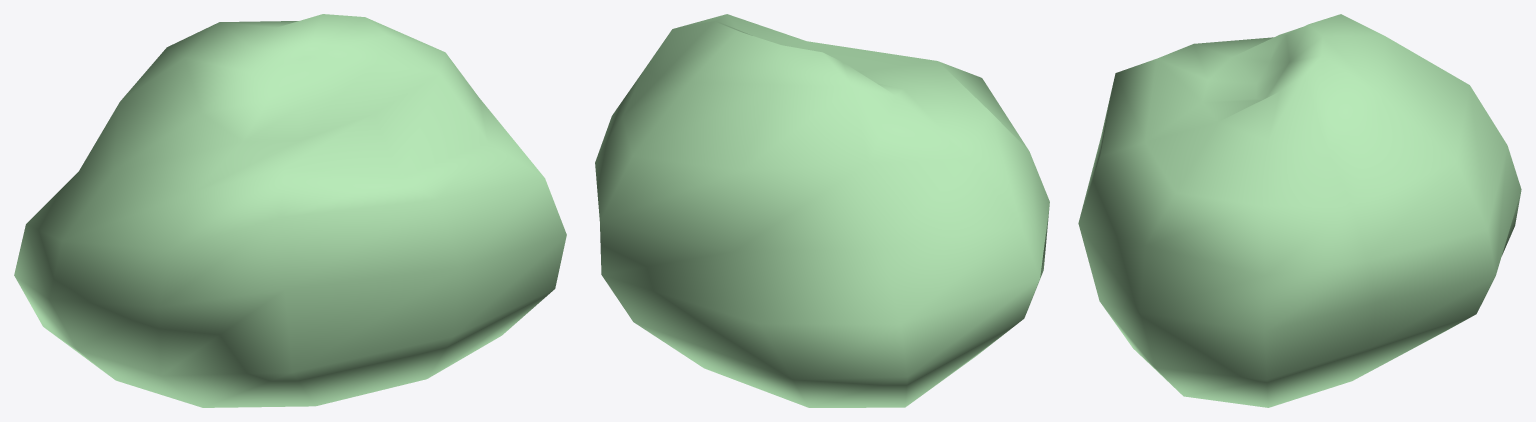
File: Rock2_Large.fbx
The picture shows the model from 3 angles, left to right: view 1: azimuth 30°, elevation 25°; view 2: azimuth 150°, elevation 25°; view 3: azimuth 270°, elevation 25°; orthographic projection. The views are drawn at different scales.
Visible parts, largest first — view 1: Rock2_Large; view 2: Rock2_Large; view 3: Rock2_Large.
Boxes of the visible parts, x1=… form: Rock2_Large: x1=14, y1=14, x2=566, y2=407; Rock2_Large: x1=595, y1=14, x2=1049, y2=407; Rock2_Large: x1=1078, y1=14, x2=1521, y2=407.
Bounding box in the file's own units: 1878 × 1175 × 1593.
